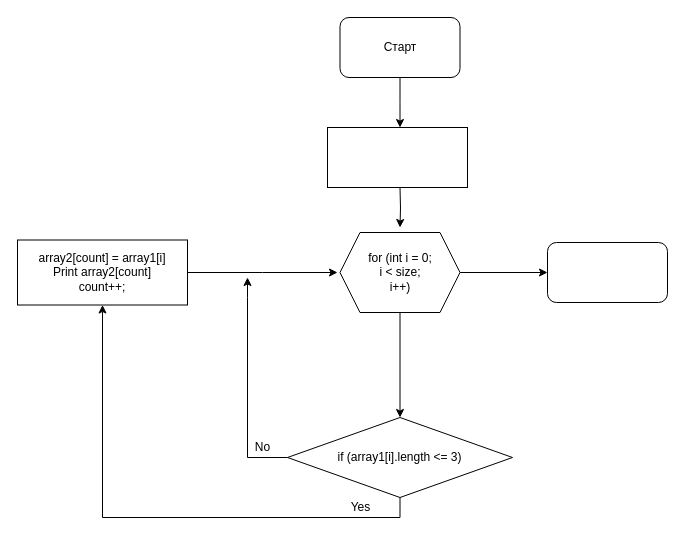
The diagram is 685 pixels wide and 543 high, and some of its shapes have lost their labels. The box of each missing label's shape, as (x1, y1, x2, y2) in pixels:
string [] array1 string [] array2 count =0 int size= array1.length: (326, 126, 468, 188)
конец: (546, 242, 668, 302)
